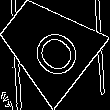O_NW: (15, 13, 80, 79)
